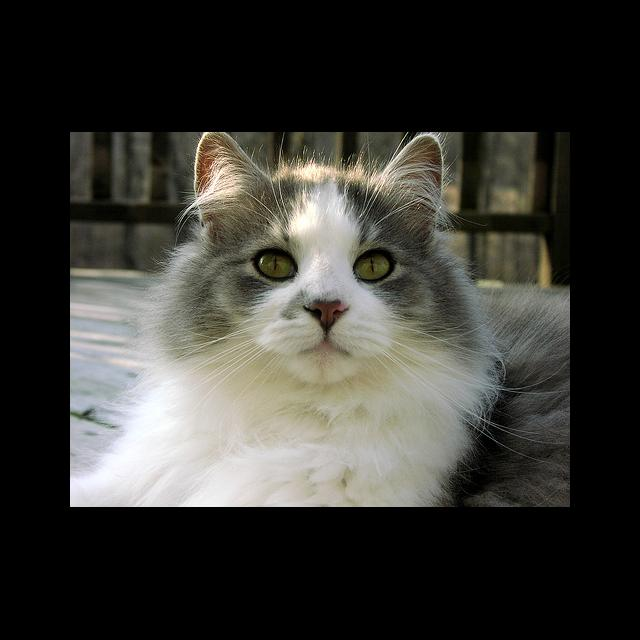animals: (208, 133, 429, 330)
